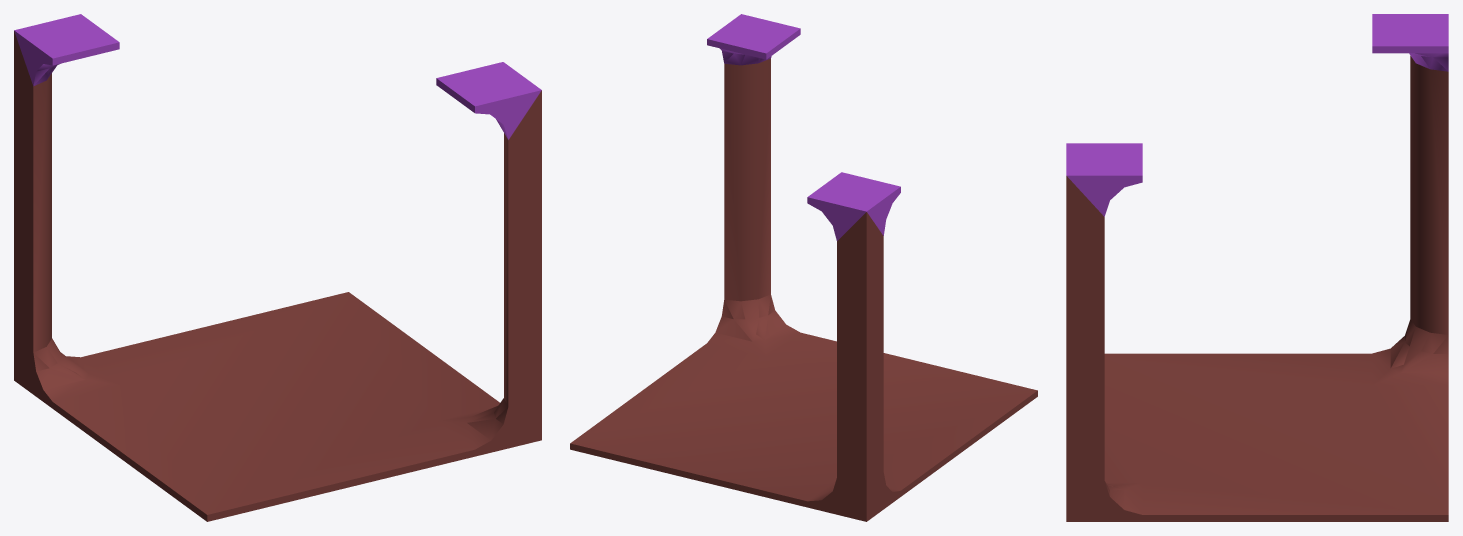
File: Tileset_119.fbx
3 renders of one model, left to right at view 1: azimuth 30°, elevation 25°; view 2: azimuth 150°, elevation 25°; view 3: azimuth 270°, elevation 25°, orthographic. The views are drawn at different scales.
Parts seen in each view (by area): view 1: Tileset_119; view 2: Tileset_119; view 3: Tileset_119.
Part boxes in pixels (x1,y1,x2,y2): Tileset_119: (14,14,541,521); Tileset_119: (570,14,1037,521); Tileset_119: (1066,14,1448,521).
Size of the model in its own units: 100 by 100 by 100.
